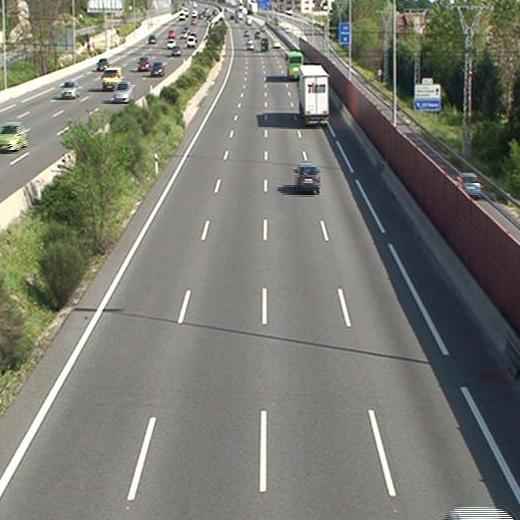bus: (284, 50, 303, 79)
car: (295, 163, 320, 193), (273, 39, 282, 48)
truck: (297, 64, 329, 124)
van: (259, 37, 269, 53)
